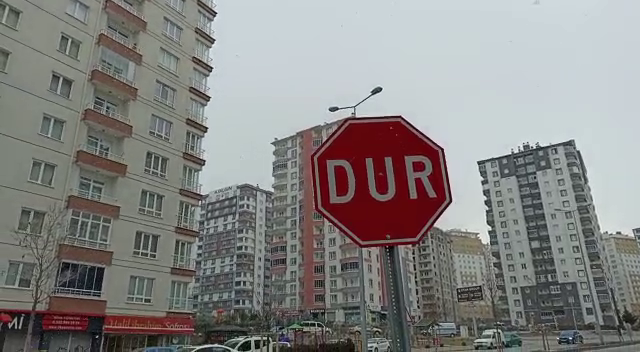stop: (307, 110, 456, 250)
